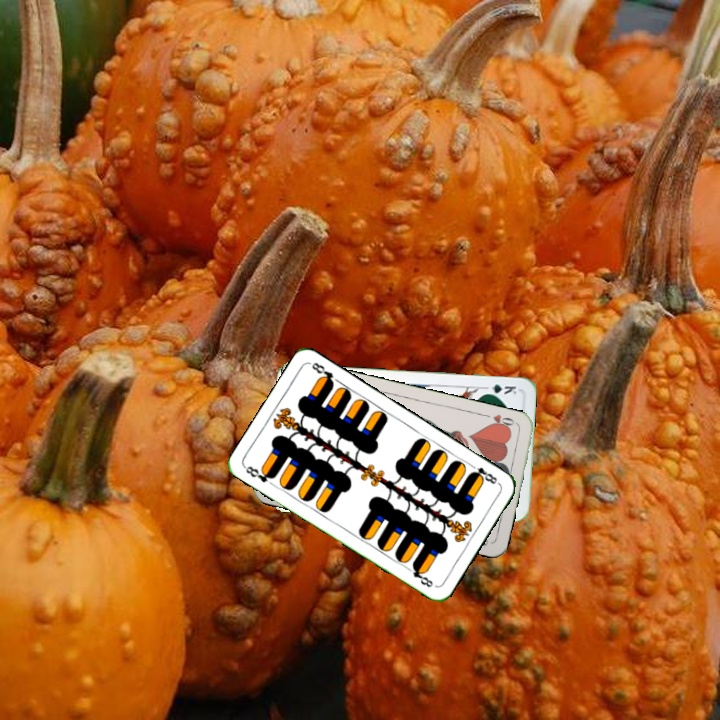E8: (466, 460, 502, 487), (241, 462, 278, 485)
GK: (480, 380, 519, 397)
HO: (480, 410, 520, 432)
